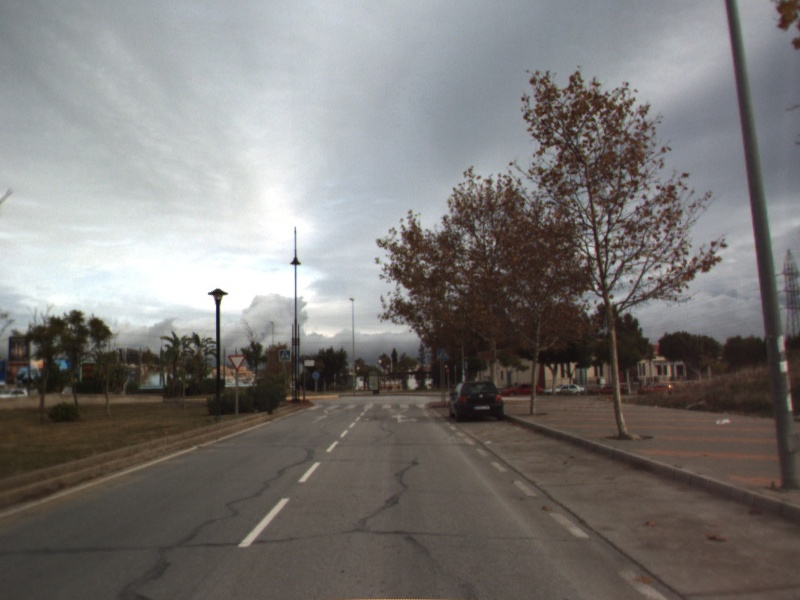STRAIGHT_RIGHT: (390, 412, 420, 425)
